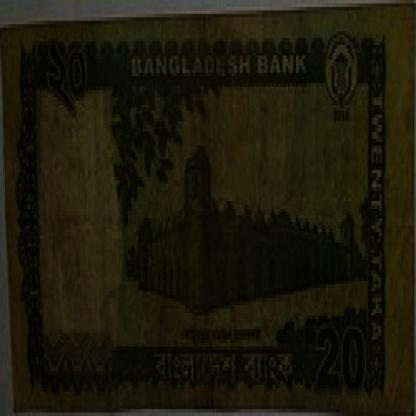Twenty: (45, 45, 110, 118), (311, 319, 371, 395)
